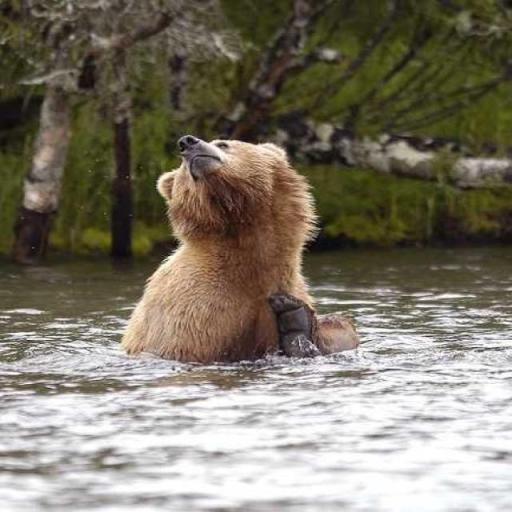Bear: (120, 133, 360, 364)
